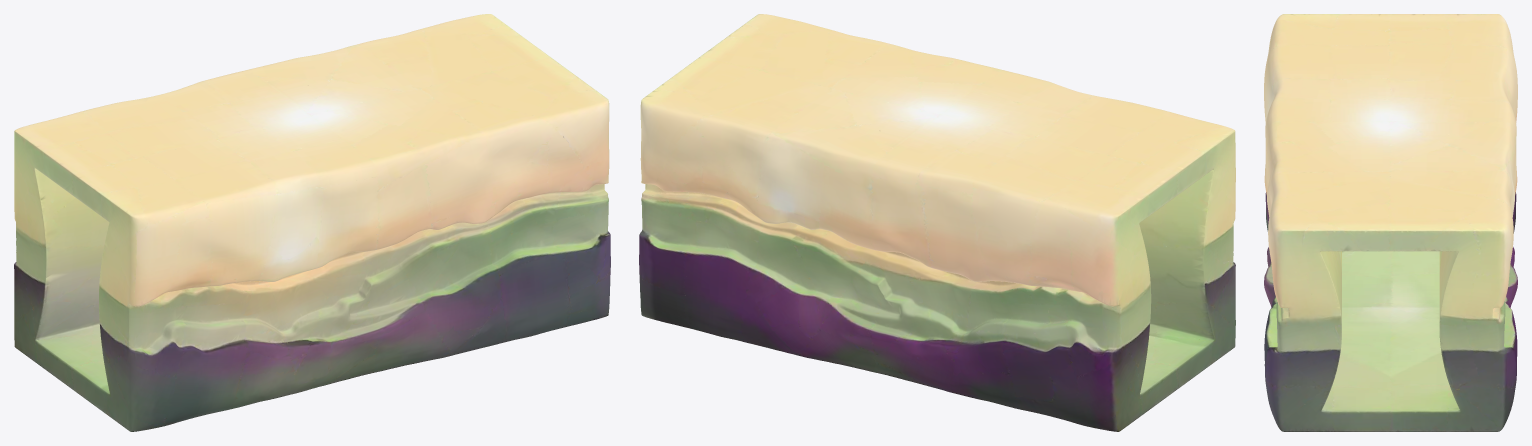
Rendered from hills.glb.
The picture shows the model from 3 angles, left to right: view 1: azimuth 30°, elevation 25°; view 2: azimuth 150°, elevation 25°; view 3: azimuth 270°, elevation 25°; orthographic projection. The views are drawn at different scales.
Size of the model in its own units: 1.9 by 0.8227 by 0.94.
1 material, 1 textured.
